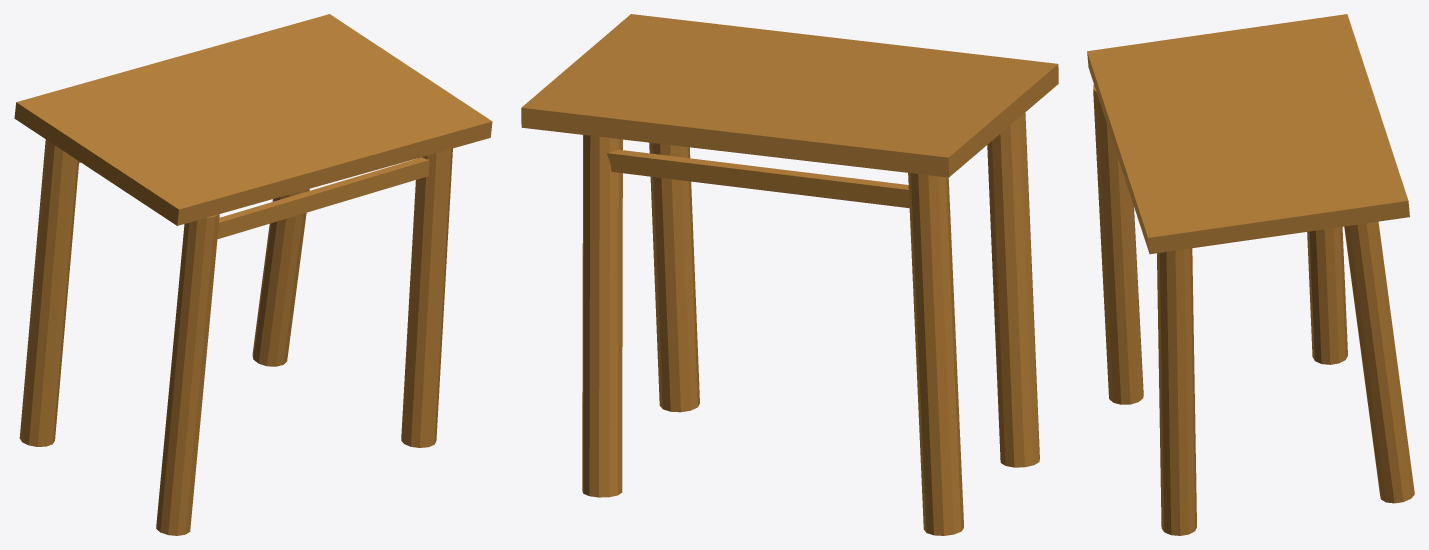
Rendered from small-table.gltf.
3 views of the same model, side by side, from view 1: azimuth 30°, elevation 25°; view 2: azimuth 150°, elevation 25°; view 3: azimuth 270°, elevation 25° (orthographic). The views are drawn at different scales.
Parts seen in each view (by area): view 1: node_MeshObject1896304640-PolyPaper19; view 2: node_MeshObject1896304640-PolyPaper19; view 3: node_MeshObject1896304640-PolyPaper19.
Part boxes in pixels (x1=…): node_MeshObject1896304640-PolyPaper19: x1=14, y1=14, x2=492, y2=535; node_MeshObject1896304640-PolyPaper19: x1=521, y1=14, x2=1058, y2=535; node_MeshObject1896304640-PolyPaper19: x1=1087, y1=14, x2=1414, y2=535.
Size of the model in its own units: 0.9526 by 0.859 by 0.7081.
